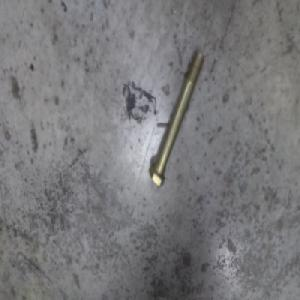Bolt: (155, 50, 211, 185)
